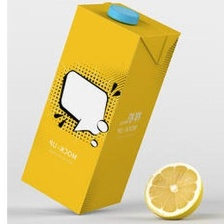carton: (18, 0, 184, 220)
